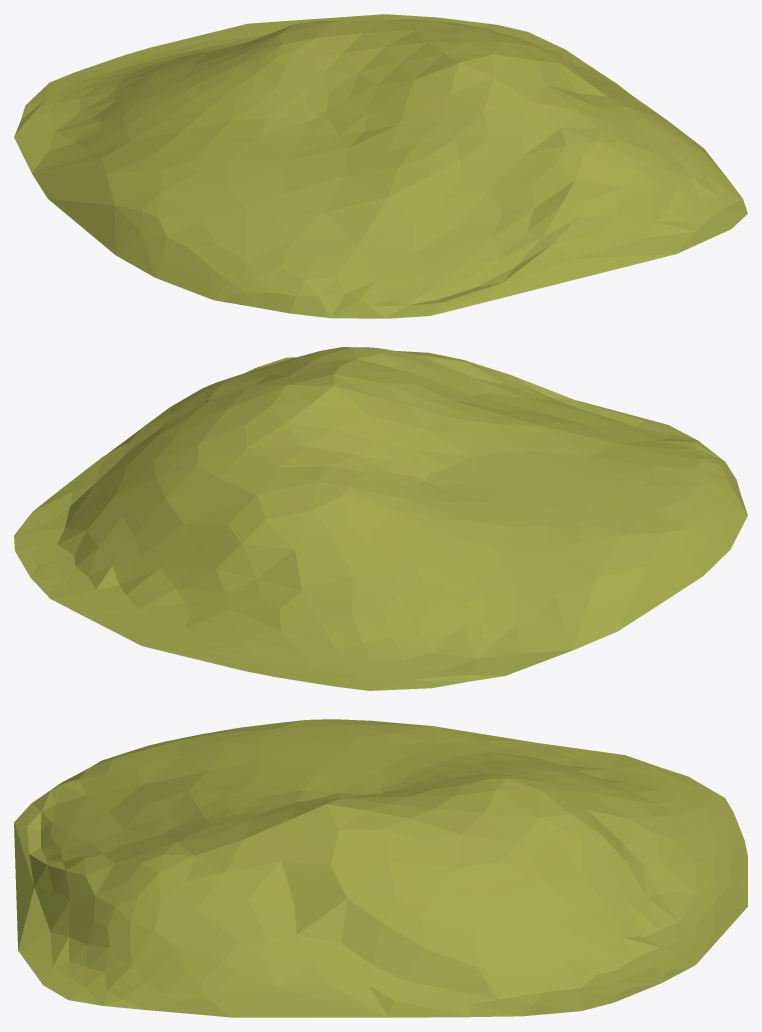
Rendered from Hill_19.glb.
3 views of the same model, one above another, from view 1: azimuth 30°, elevation 25°; view 2: azimuth 150°, elevation 25°; view 3: azimuth 270°, elevation 25° (orthographic). The views are drawn at different scales.
Visible parts, largest first — view 1: Hill_19; view 2: Hill_19; view 3: Hill_19.
Part boxes in pixels (<box>): Hill_19: <box>14,14,747,318</box>; Hill_19: <box>14,347,747,690</box>; Hill_19: <box>14,719,747,1017</box>.
Size of the model in its own units: 56.23 by 10.09 by 61.
Materials: 1 (1 with a texture image).
